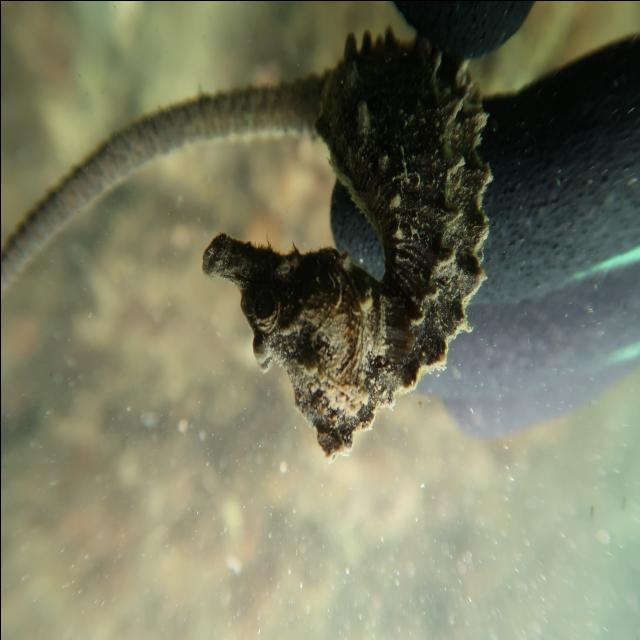Hippo: (196, 218, 386, 464)
